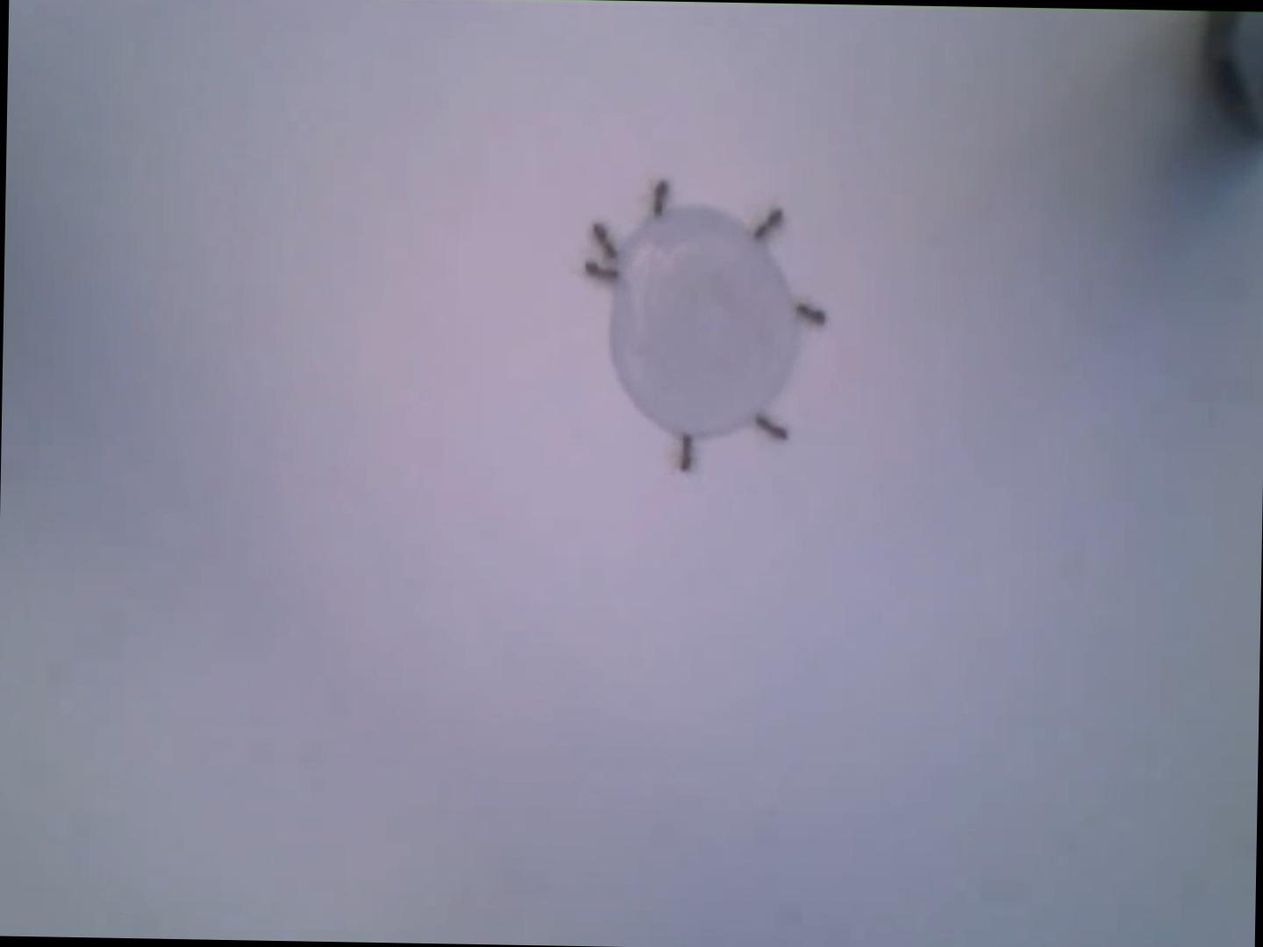Ant: (588, 222, 618, 260), (750, 206, 780, 241), (751, 413, 785, 441), (582, 260, 617, 284), (646, 178, 668, 216), (791, 302, 824, 327), (673, 434, 692, 471)
